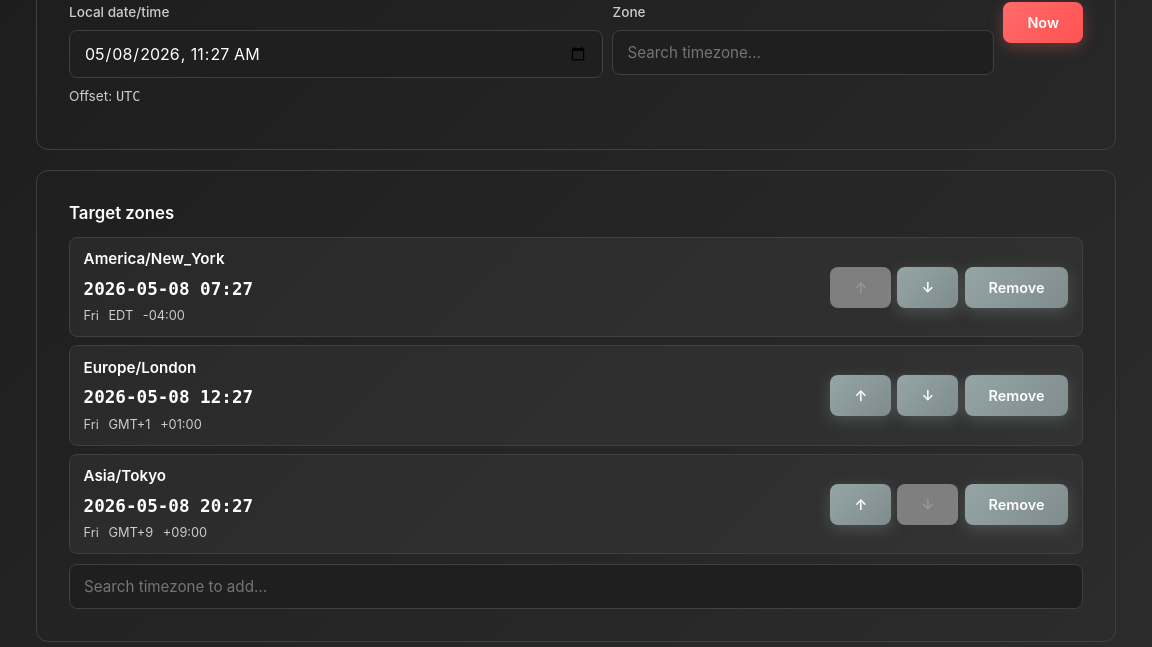
Test: <TimezoneConverter /> › shows empty-state when all targets removed
(page scrolled)
Note: Default has 3 targets: America/New_York, Europe/London, Asia/Tokyo
Click the button with aria-label "Remove America/New_York" at [1016, 287], box top-left (964, 267), bottom-right (1068, 308)
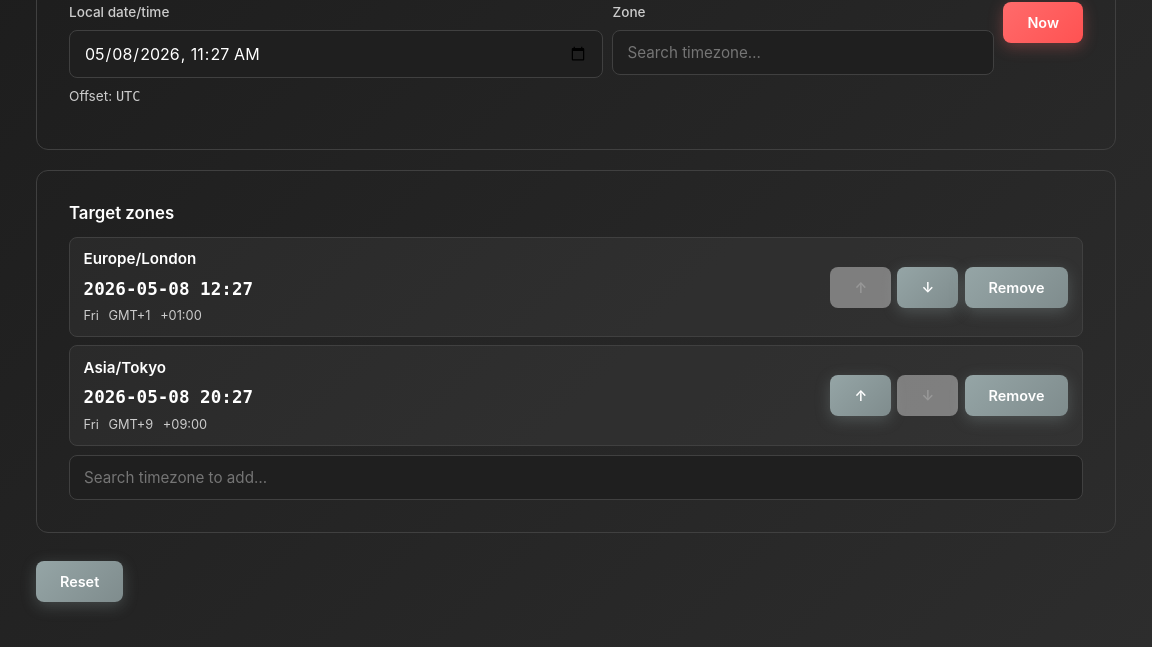
Click the button with aria-label "Remove Europe/London" at [1016, 287], box top-left (964, 267), bottom-right (1068, 308)
(page scrolled)
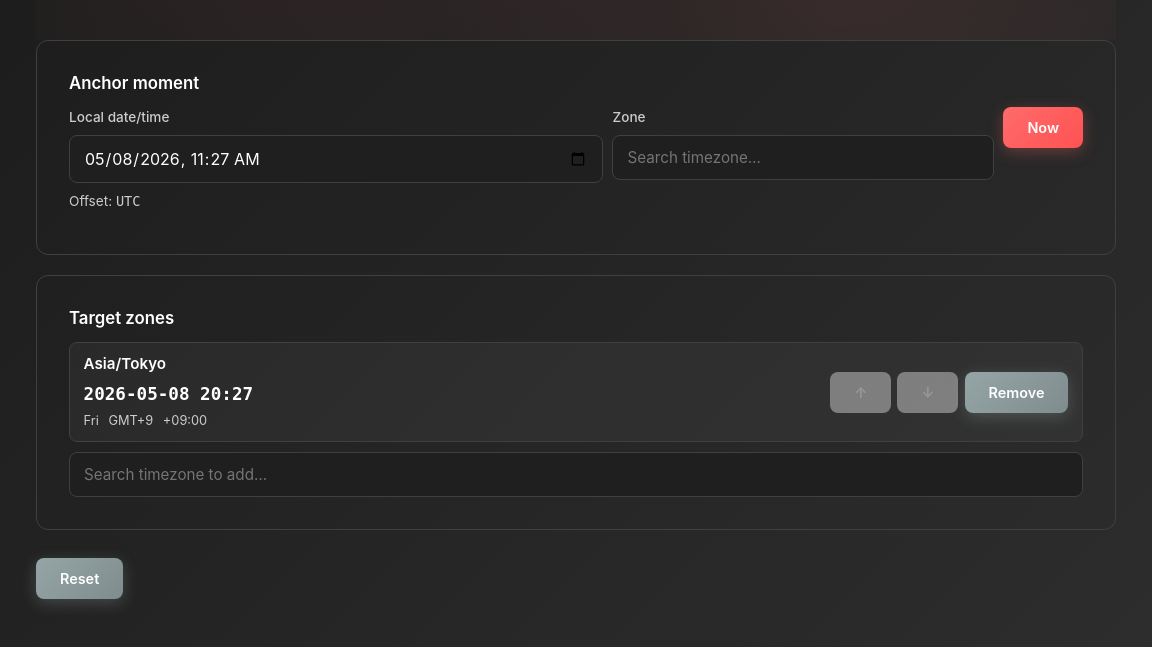
Click the button with aria-label "Remove Asia/Tokyo" at [1016, 392], box top-left (964, 372), bottom-right (1068, 413)
(page scrolled)
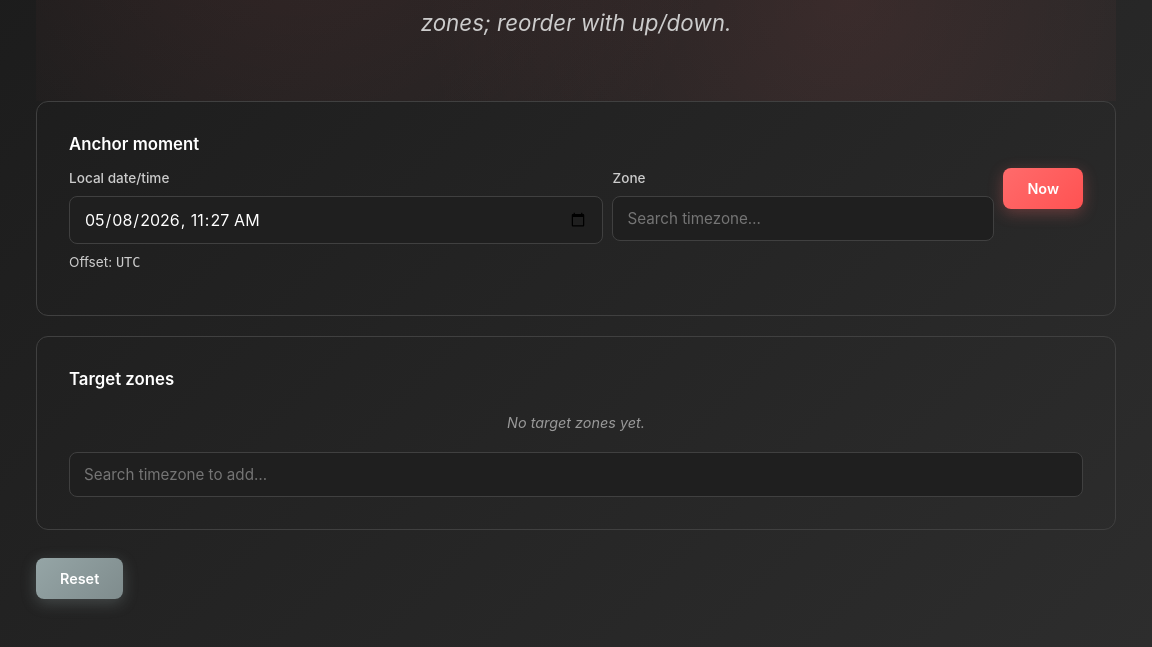
Expected: the text "No target zones yet." is shown, top-left (507, 414), bottom-right (645, 431)
